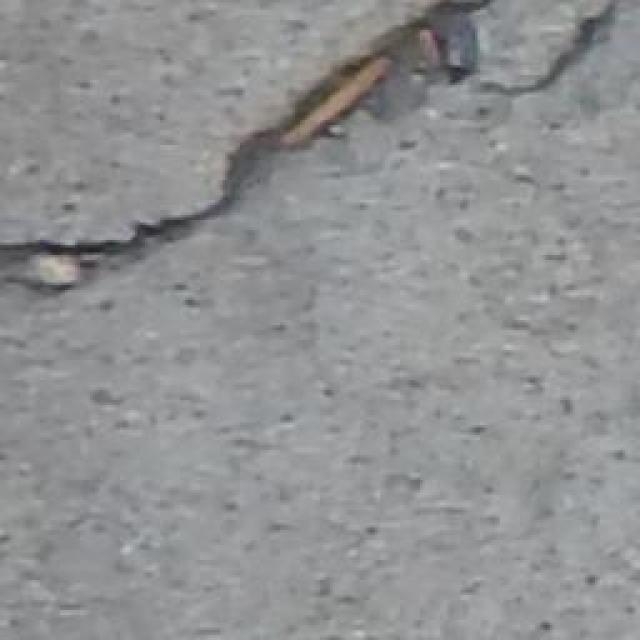concrete-crack: (0, 0, 626, 307)
